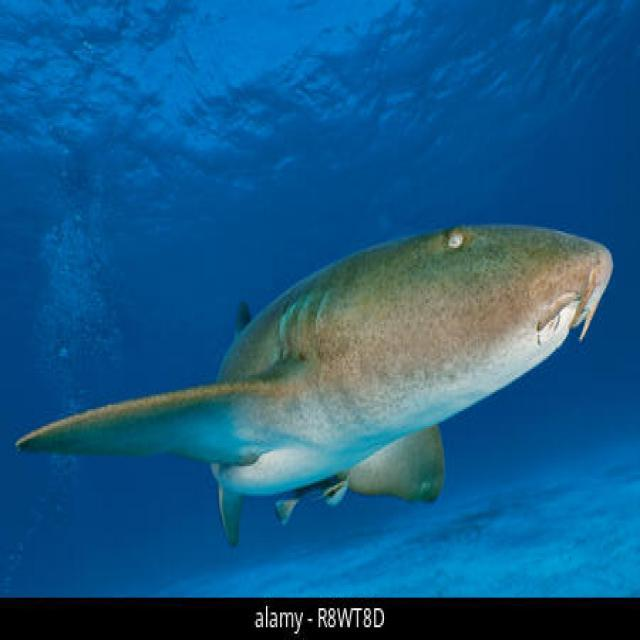Shark: (9, 144, 628, 526)
